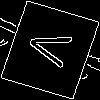V: (25, 25, 83, 72)
